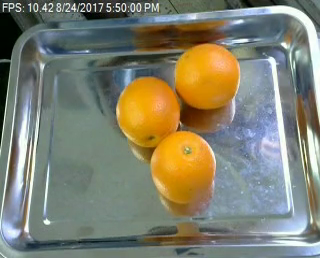Orange: (148, 130, 215, 202), (115, 76, 180, 147), (175, 43, 240, 110)
